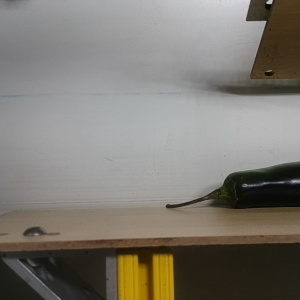Cut Point: (210, 168, 244, 208)
